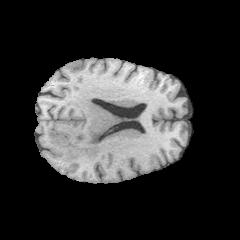glioma: (48, 100, 122, 161)
